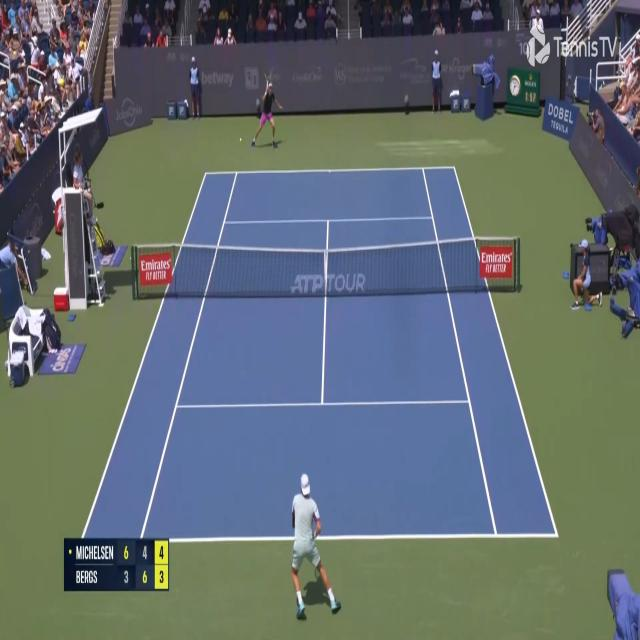tennis-player: (289, 470, 342, 623), (252, 79, 282, 150)
